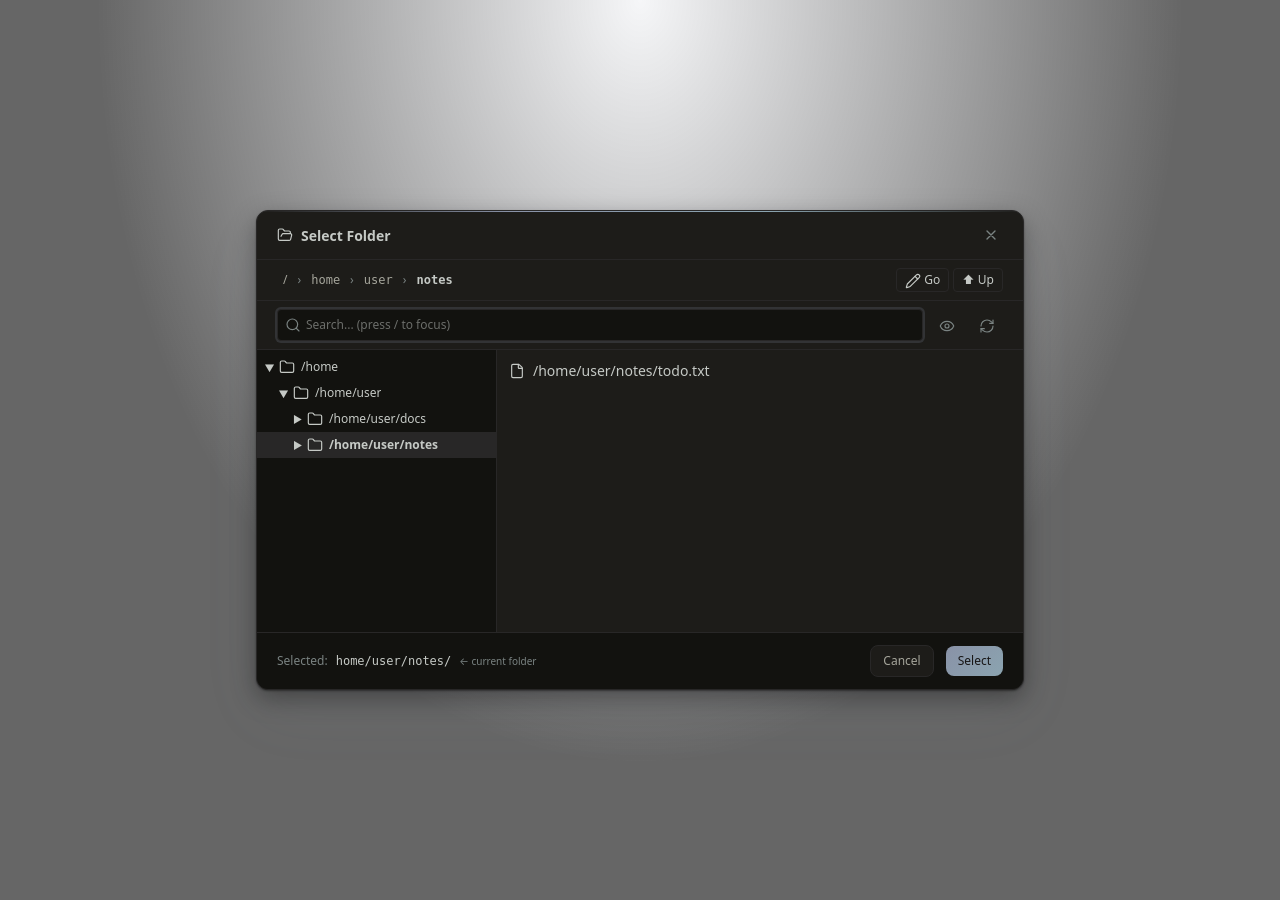
Test: FilePickerDialog — navigation › clicking the Up button navigates to the parent path
Click the button with test id "file-picker-up".
click(978, 280)  # box 953,268 -> 1003,292
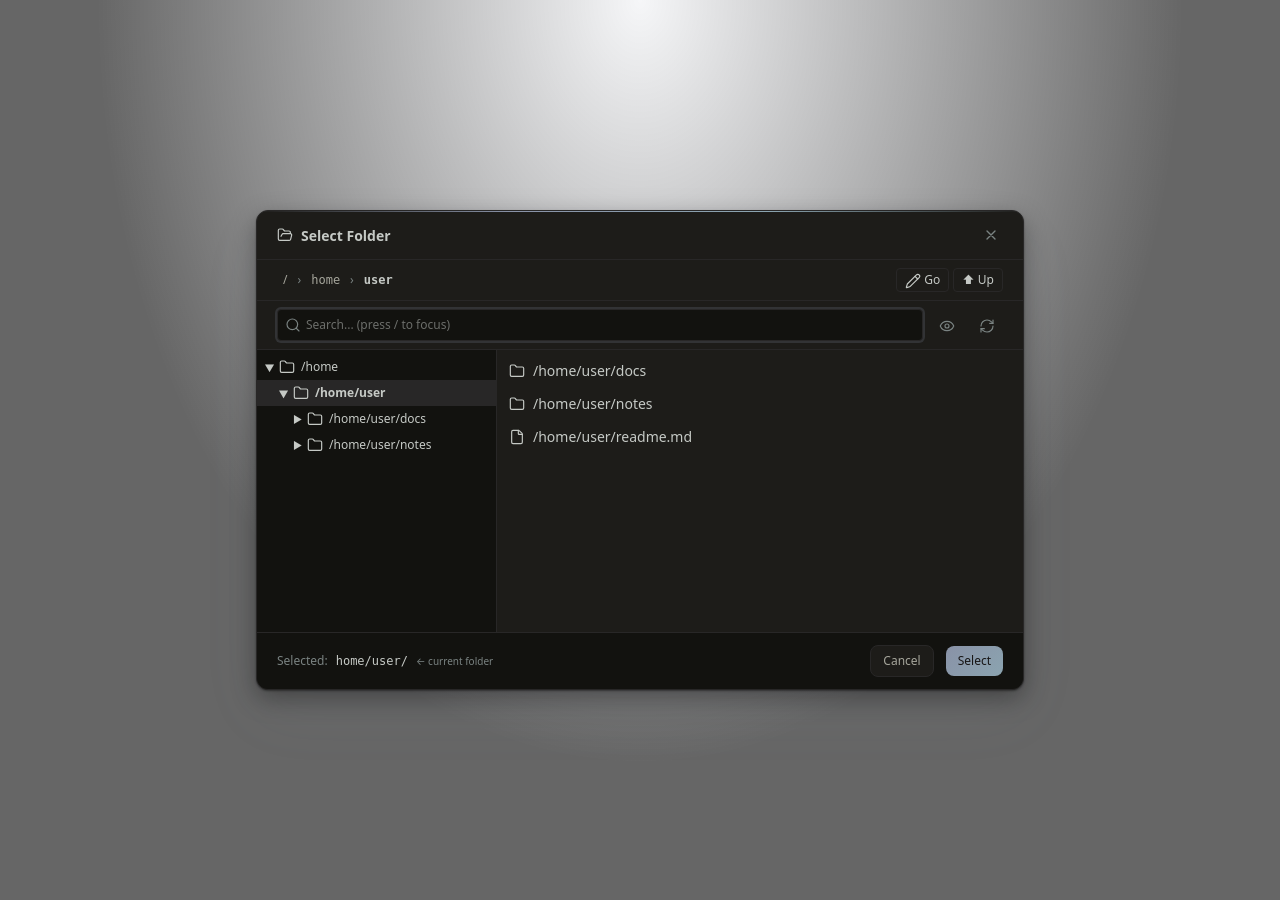
Now the button with test id "file-picker-item-/home/user/docs" is shown, box 497,354 -> 1023,387
